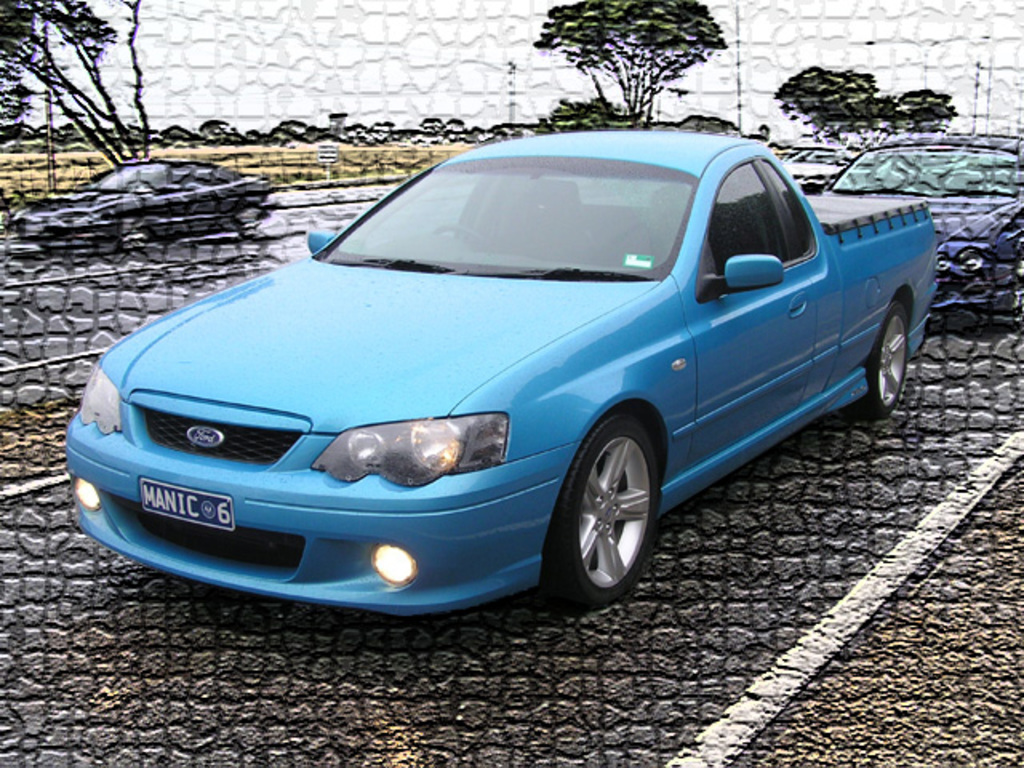Tree: (0, 0, 732, 164), (771, 61, 960, 148)
